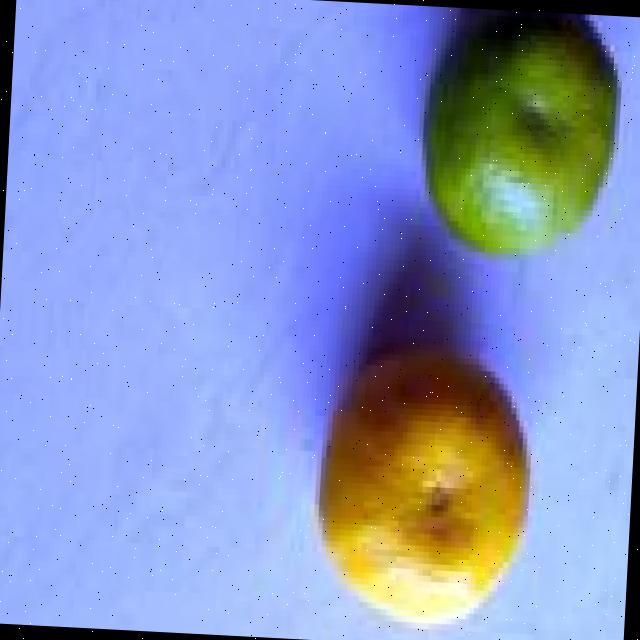Good_Orange-15-21 days: (322, 345, 537, 627), (424, 9, 626, 260)
